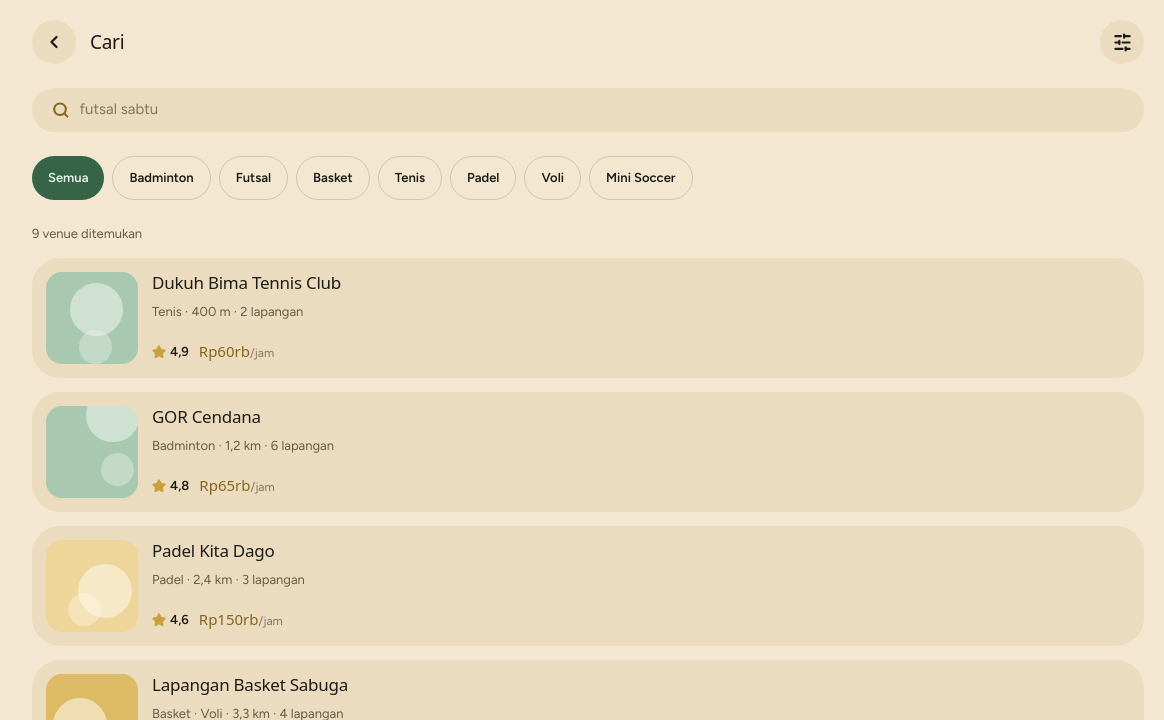
Test: SearchScreen — filter tersinkron dengan URL › menyimpan jarak maksimum yang dipilih ke URL
This screenshot has width=1164, height=720.
What coordinates should you click on to do the following:
click the button named "Filter"
I would click on:
 (1122, 42)
Its box is 1100,20 -> 1144,64.
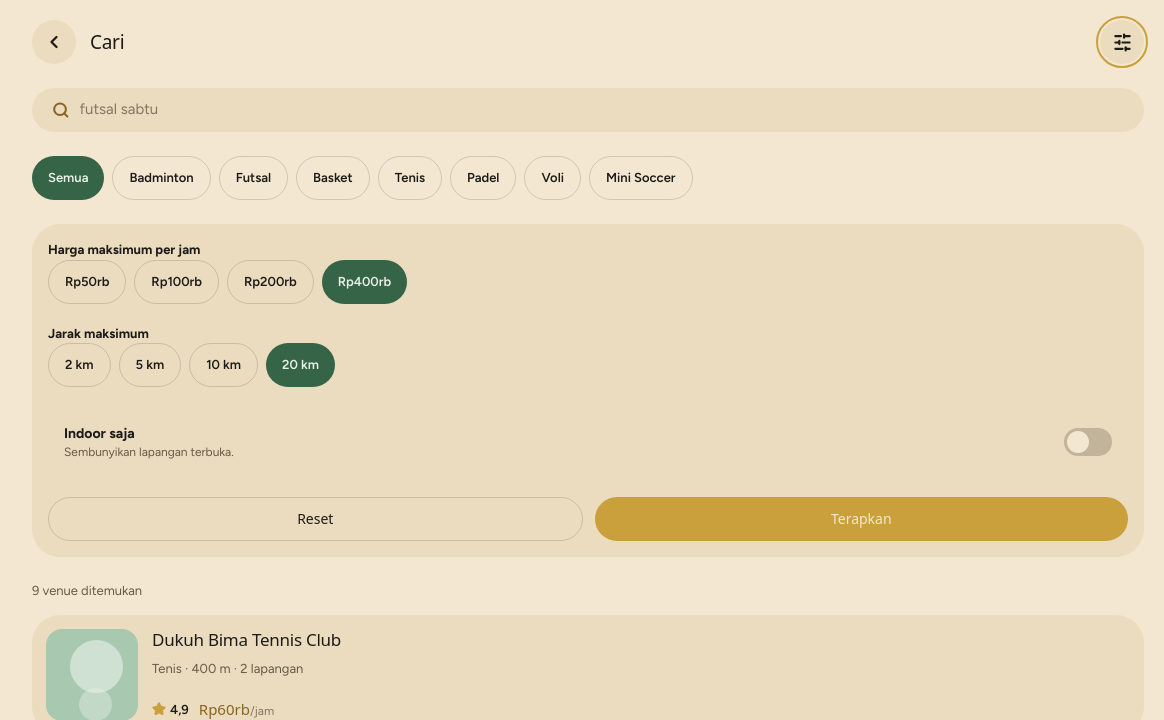
What coordinates should you click on to do the following:
click the button "5 km"
I would click on:
 (150, 365)
Its box is 118,343 -> 181,387.
(page scrolled)
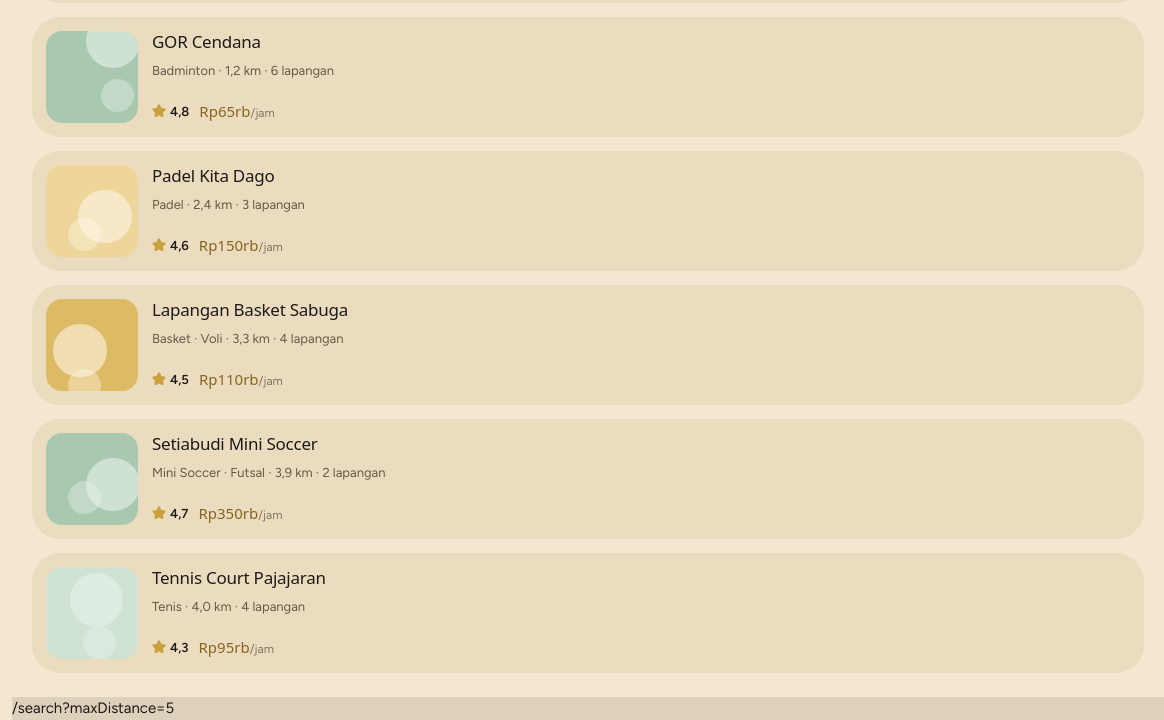
Expected: the text with test id "location" shows "maxDistance=5", 62,699 -> 174,717
